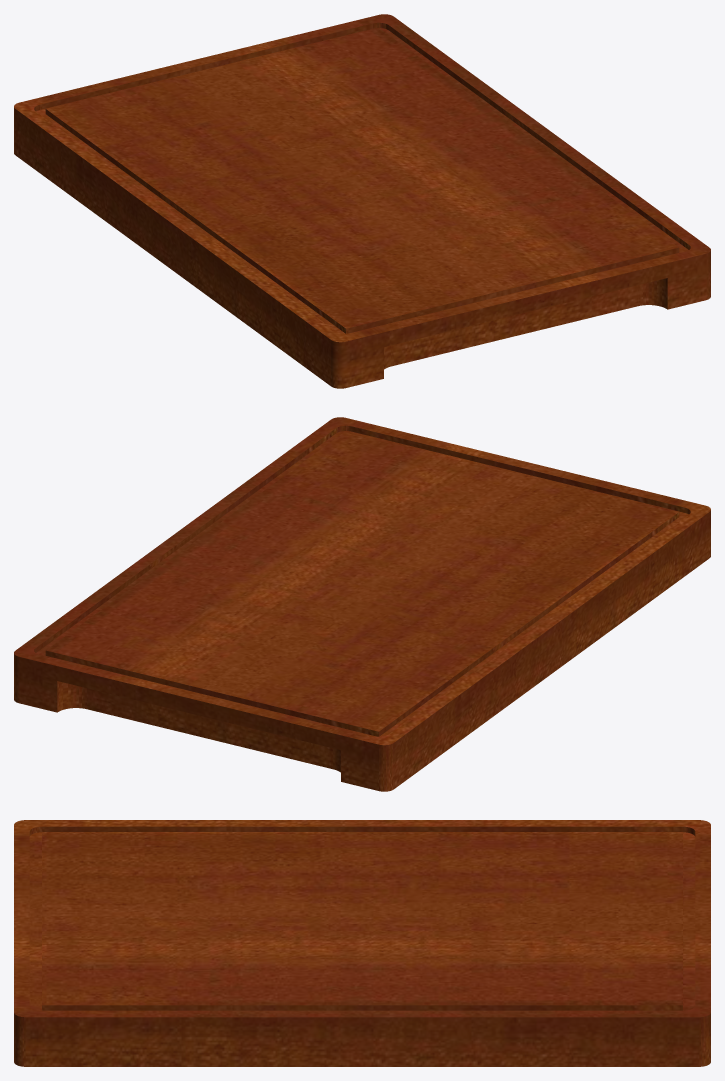
File: tabla-de-picar-algarrobo-talla-m.glb
The picture shows the model from 3 angles, top to bottom: view 1: azimuth 30°, elevation 25°; view 2: azimuth 150°, elevation 25°; view 3: azimuth 270°, elevation 25°; orthographic projection. The views are drawn at different scales.
Bounding box in the file's own units: 0.3 × 0.0352 × 0.4484.
Materials: 2 (2 with a texture image).
